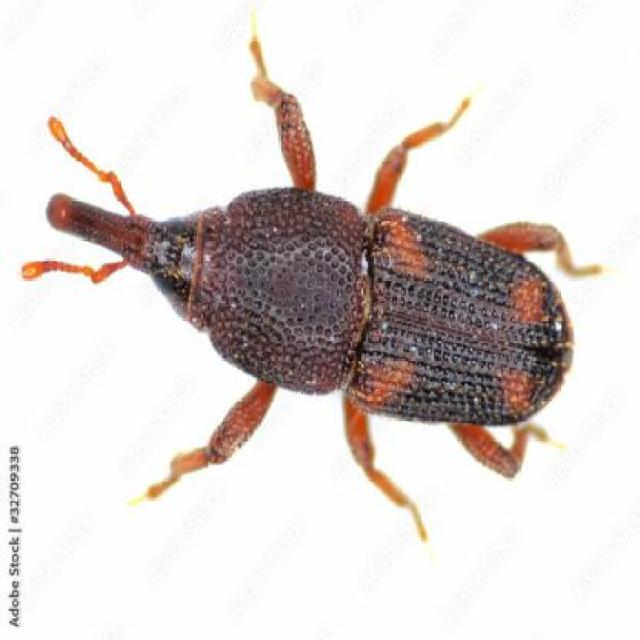rice-bug: (45, 185, 588, 477)
